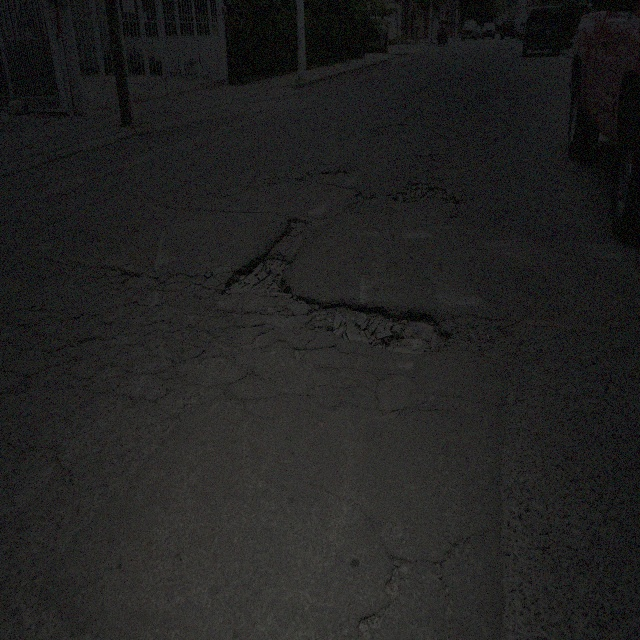pothole: (308, 292, 448, 359), (221, 247, 292, 302), (397, 178, 460, 206), (388, 553, 413, 598), (359, 602, 386, 636), (292, 345, 307, 363)
